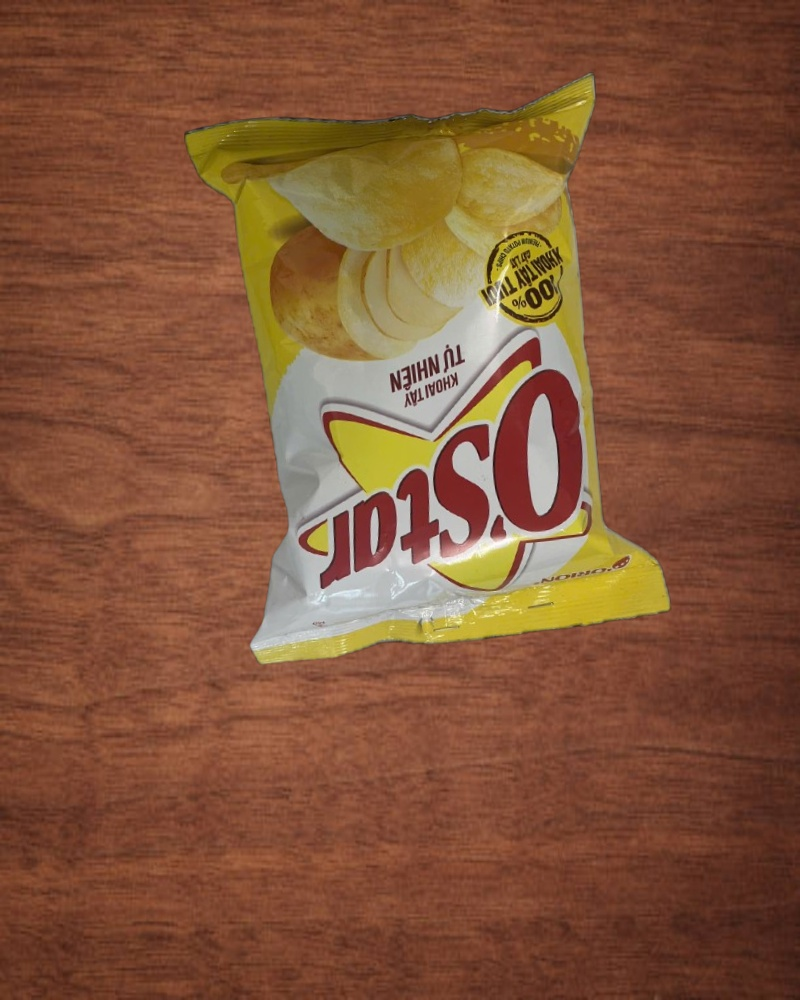Snack cua: (188, 77, 671, 661)
